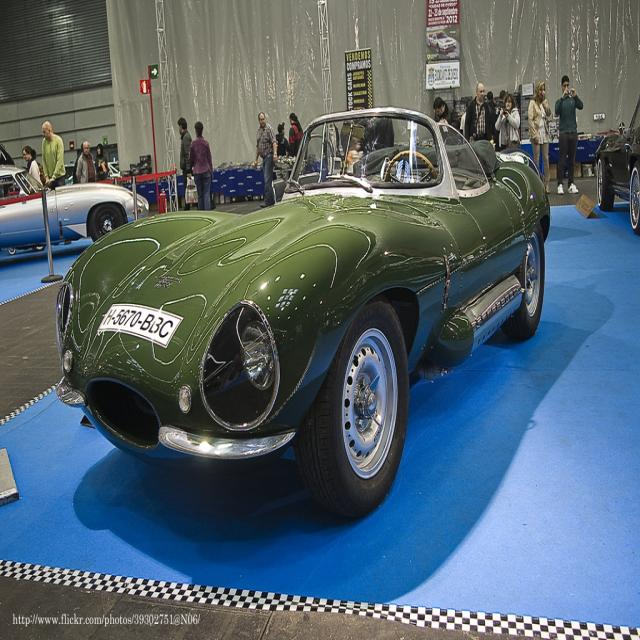car: (41, 114, 546, 517)
